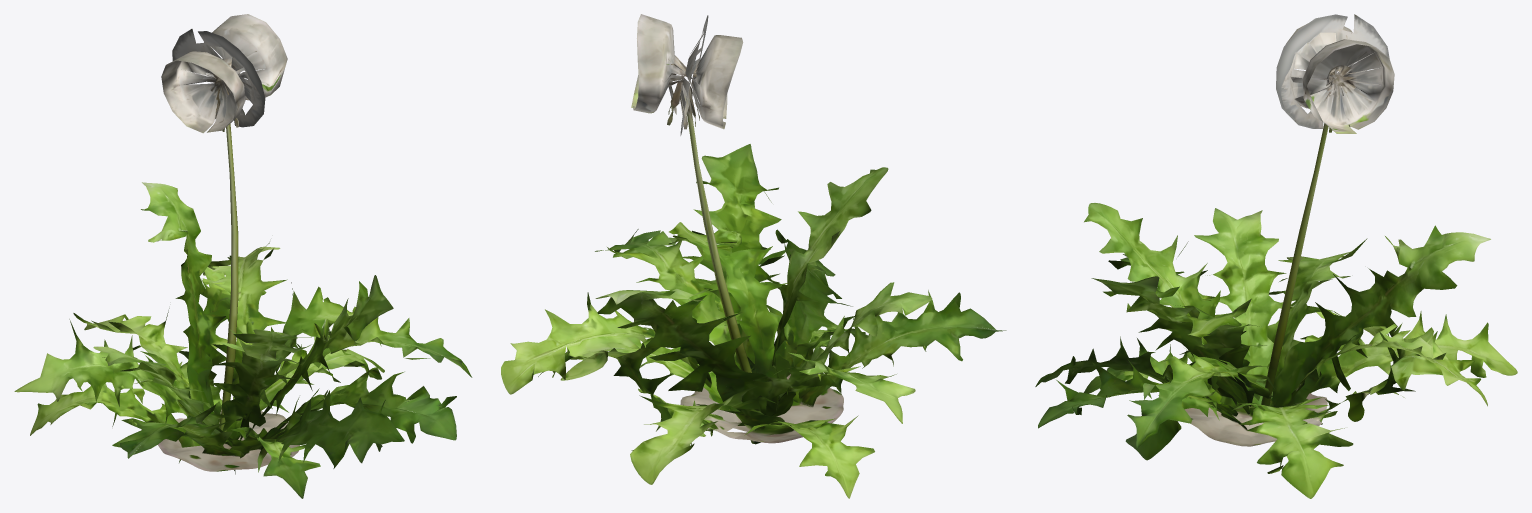
Rendered from dandelion.glb.
3 views of the same model, side by side, from view 1: azimuth 30°, elevation 25°; view 2: azimuth 150°, elevation 25°; view 3: azimuth 270°, elevation 25° (orthographic). The views are drawn at different scales.
Visible parts, largest first — view 1: tripo_node_35a0baa7-8fed-4c2f-95e2-16d736c347fc; view 2: tripo_node_35a0baa7-8fed-4c2f-95e2-16d736c347fc; view 3: tripo_node_35a0baa7-8fed-4c2f-95e2-16d736c347fc.
Boxes of the visible parts, x1,y1,x2,y2 form: tripo_node_35a0baa7-8fed-4c2f-95e2-16d736c347fc: (14, 14, 472, 498); tripo_node_35a0baa7-8fed-4c2f-95e2-16d736c347fc: (501, 14, 1006, 498); tripo_node_35a0baa7-8fed-4c2f-95e2-16d736c347fc: (1035, 14, 1517, 498).
Bounding box in the file's own units: 0.9214 × 0.9946 × 0.9995.
1 material, 1 textured.
